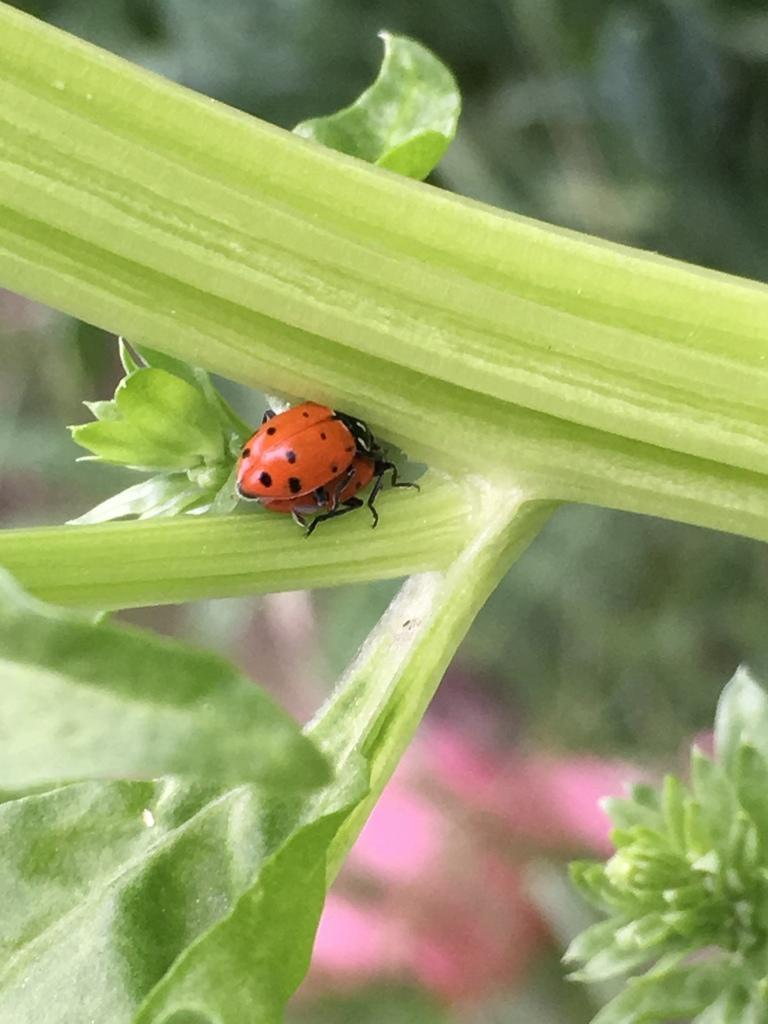ladybug: (234, 400, 378, 514), (262, 443, 423, 540)
